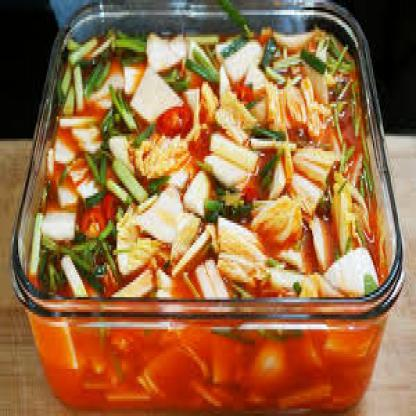nabak Kimchi: (46, 30, 369, 332)
